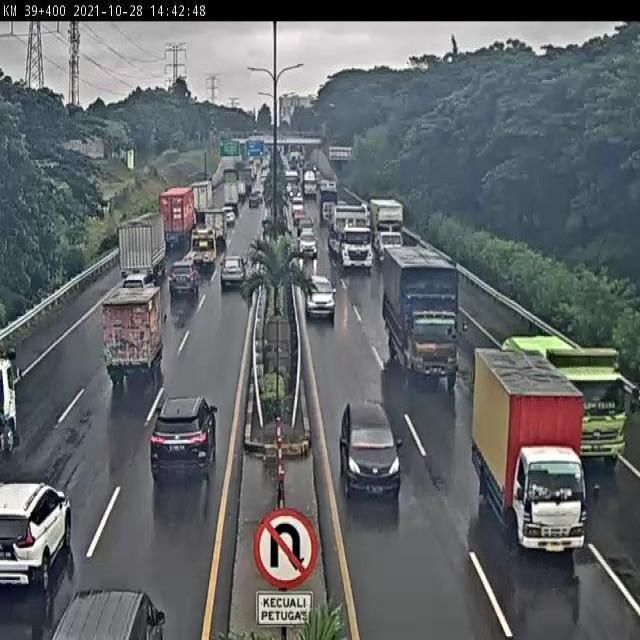car: (0, 479, 72, 592), (340, 400, 401, 499), (149, 396, 219, 477), (304, 271, 335, 321), (167, 259, 197, 296), (218, 253, 244, 288), (297, 230, 321, 262)
truck: (475, 347, 586, 548), (502, 335, 625, 463), (384, 249, 459, 392), (101, 284, 169, 380), (118, 216, 167, 279), (330, 206, 373, 270), (370, 195, 404, 257), (191, 226, 219, 258)
